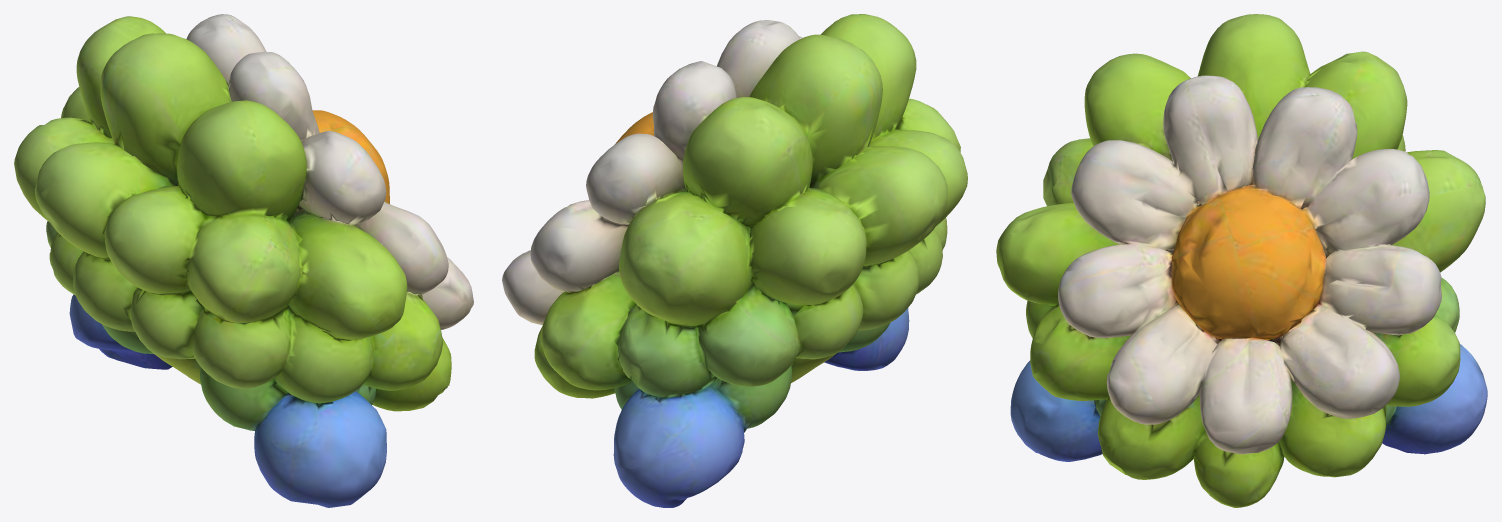
File: acc_hat_flower_01.glb
3 views of the same model, side by side, from view 1: azimuth 30°, elevation 25°; view 2: azimuth 150°, elevation 25°; view 3: azimuth 270°, elevation 25° (orthographic). The views are drawn at different scales.
Parts seen in each view (by area): view 1: acc_hat_flower_01; view 2: acc_hat_flower_01; view 3: acc_hat_flower_01.
Boxes of the visible parts, left/top/right/bottom form: acc_hat_flower_01: left=14, top=14, right=473, bottom=507; acc_hat_flower_01: left=502, top=14, right=967, bottom=507; acc_hat_flower_01: left=996, top=14, right=1487, bottom=507.
Bounding box in the file's own units: 0.3192 × 0.32 × 0.3576.
Materials: 1 (1 with a texture image).
